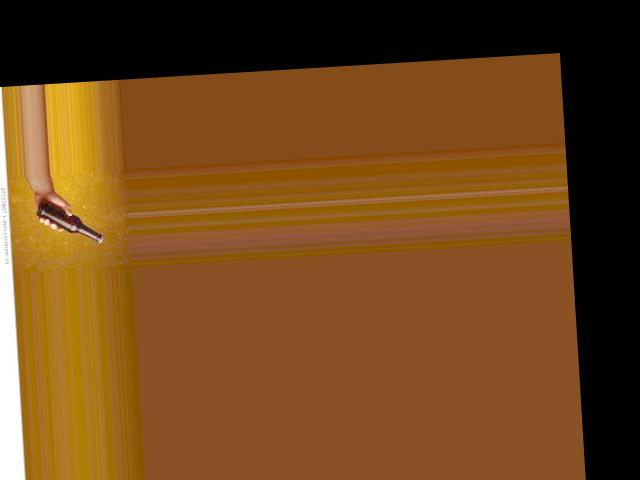beer: (35, 194, 104, 247)
